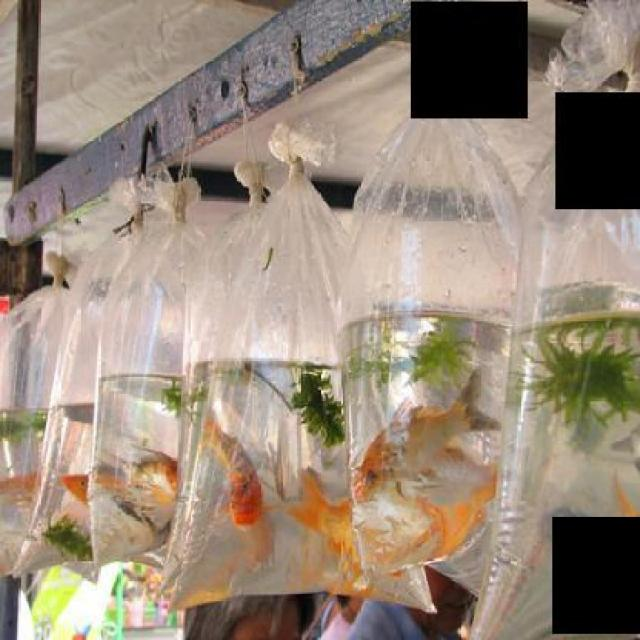plastic bag: (340, 32, 531, 603), (470, 0, 638, 638), (170, 120, 344, 614), (83, 163, 182, 582), (2, 235, 118, 580)
